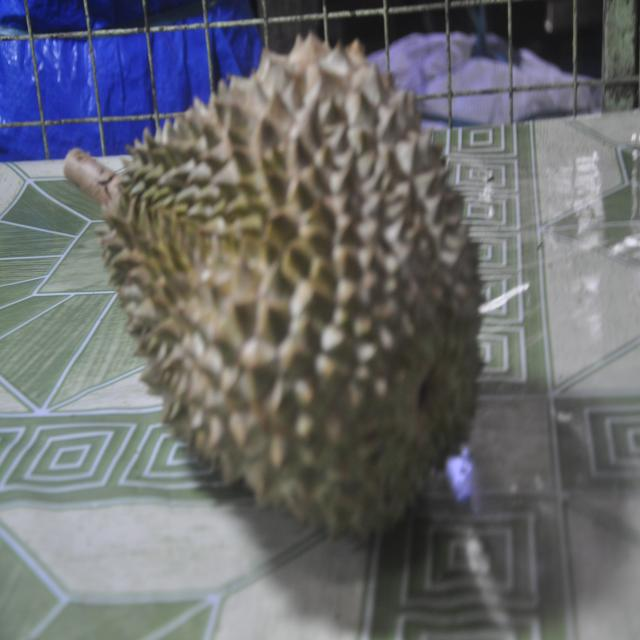mature: (103, 35, 480, 537)
